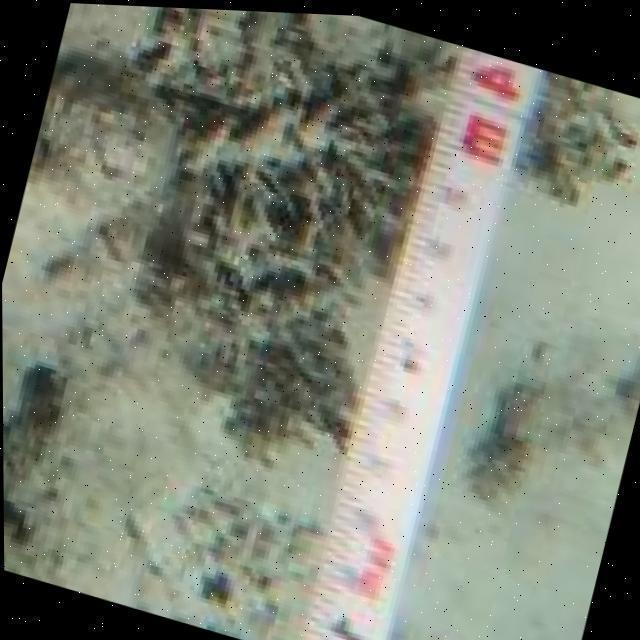Dead Coral: (145, 13, 451, 466)
